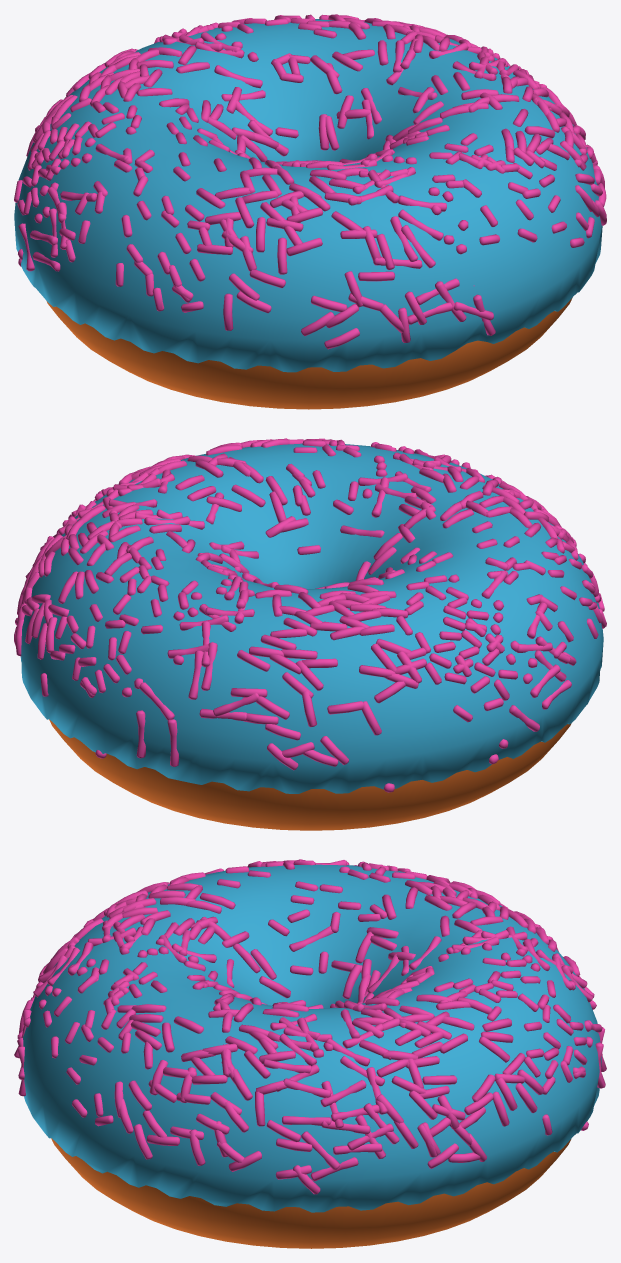
File: sprinkled.fbx
The picture shows the model from 3 angles, top to bottom: view 1: azimuth 30°, elevation 25°; view 2: azimuth 150°, elevation 25°; view 3: azimuth 270°, elevation 25°; orthographic projection.
Visible parts, largest first — view 1: sprinkled.003; view 2: sprinkled.003; view 3: sprinkled.003.
Part boxes in pixels (bbox=[...]): sprinkled.003: bbox=[14, 14, 606, 409]; sprinkled.003: bbox=[14, 438, 606, 830]; sprinkled.003: bbox=[14, 859, 606, 1248].
Size of the model in its own units: 264 by 112 by 265.
